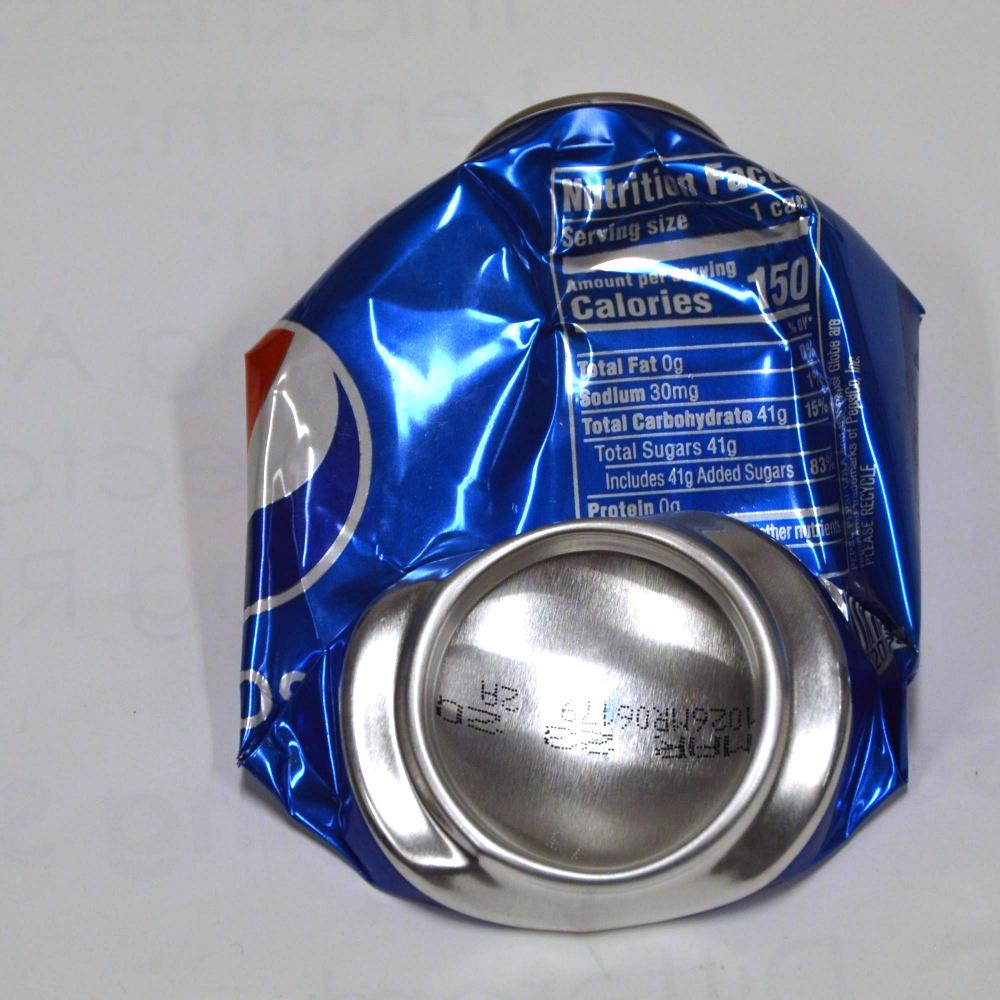Metal: (130, 88, 938, 918)
